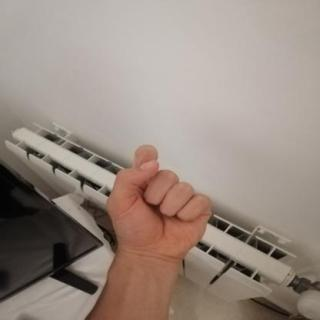FAA: (92, 135, 226, 271)
